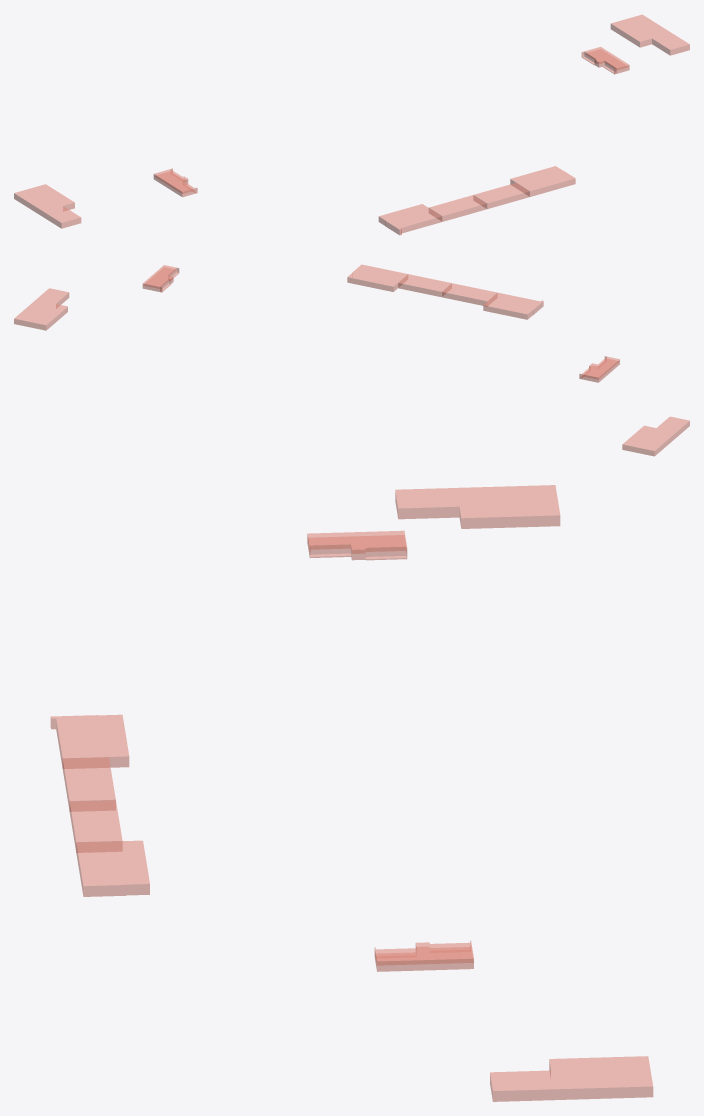
File: Level_03_structure.glb
3 renders of one model, top to bottom at view 1: azimuth 30°, elevation 25°; view 2: azimuth 150°, elevation 25°; view 3: azimuth 270°, elevation 25°, orthographic. The views are drawn at different scales.
Visible parts, largest first — view 1: world; view 2: world; view 3: world.
Boxes of the visible parts, x1,y1,x2,y2 form: world: [14, 14, 689, 235]; world: [14, 264, 689, 456]; world: [50, 485, 653, 1101].
Bounding box in the file's own units: 42.03 × 1.83 × 17.66.
